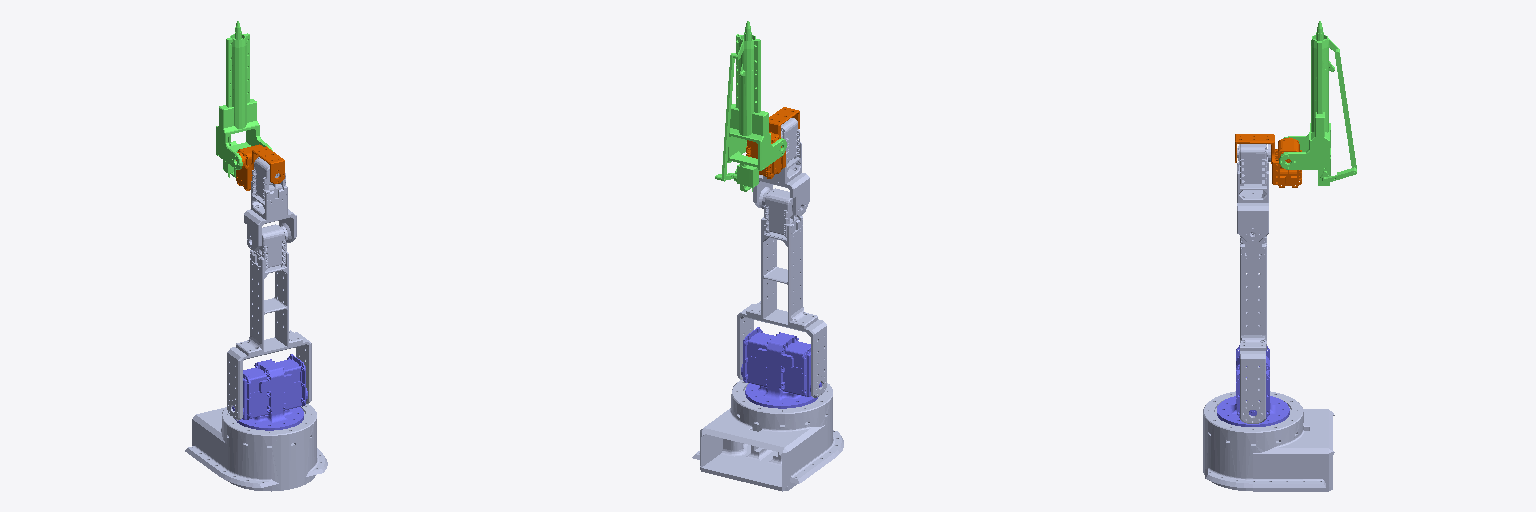
The robot description file, URDF, robot "simple_robot_v1":
<?xml version="1.0" encoding="utf-8"?>
<!-- This URDF was automatically created by SolidWorks to URDF Exporter! Originally created by [author] ([email redacted]) 
     Commit Version: 1.6.0-4-g7f85cfe  Build Version: 1.6.7995.38578
     For more information, please see http://wiki.ros.org/sw_urdf_exporter -->
<robot
  name="simple_robot_v1">
  <link
    name="FixedBase">
    <inertial>
      <origin
        xyz="6.91504582319181E-09 0.00866199894864742 0.0342031308697217"
        rpy="0 0 0" />
      <mass
        value="0.495743106976943" />
      <inertia
        ixx="0.00113436221911029"
        ixy="-1.43617638907444E-10"
        ixz="-8.73991869808274E-11"
        iyy="0.00110788818800462"
        iyz="3.73236938925135E-05"
        izz="0.00165468506904116" />
    </inertial>
    <visual>
      <origin
        xyz="0 0 0"
        rpy="0 0 0" />
      <geometry>
        <mesh
          filename="package://simple_robot_v1/meshes/FixedBase.STL" />
      </geometry>
      <material
        name="">
        <color
          rgba="0.792156862745098 0.819607843137255 0.933333333333333 1" />
      </material>
    </visual>
    <collision>
      <origin
        xyz="0 0 0"
        rpy="0 0 0" />
      <geometry>
        <mesh
          filename="package://simple_robot_v1/meshes/FixedBase.STL" />
      </geometry>
    </collision>
  </link>
  <link
    name="RotatingBaseLink">
    <inertial>
      <origin
        xyz="1.39519863637759E-09 1.06147575283678E-08 0.0504395809392708"
        rpy="0 0 0" />
      <mass
        value="0.249050674935691" />
      <inertia
        ixx="0.000206795273858127"
        ixy="-6.13548289523484E-07"
        ixz="4.03627209215138E-11"
        iyy="0.000301950307154041"
        iyz="-2.72993180638447E-11"
        izz="0.000196032160600871" />
    </inertial>
    <visual>
      <origin
        xyz="0 0 0"
        rpy="0 0 0" />
      <geometry>
        <mesh
          filename="package://simple_robot_v1/meshes/RotatingBaseLink.STL" />
      </geometry>
      <material
        name="">
        <color
          rgba="0.501960784313725 0.501960784313725 1 1" />
      </material>
    </visual>
    <collision>
      <origin
        xyz="0 0 0"
        rpy="0 0 0" />
      <geometry>
        <mesh
          filename="package://simple_robot_v1/meshes/RotatingBaseLink.STL" />
      </geometry>
    </collision>
  </link>
  <joint
    name="RotatingBaseJoint"
    type="revolute">
    <origin
      xyz="0 0 0.0500000000000001"
      rpy="0 0 0" />
    <parent
      link="FixedBase" />
    <child
      link="RotatingBaseLink" />
    <axis
      xyz="0 0 -1" />
    <limit
      lower="0"
      upper="0"
      effort="0"
      velocity="0" />
  </joint>
  <link
    name="ShoulderLink">
    <inertial>
      <origin
        xyz="0.132307785393488 -1.51178238853975E-06 0.000346804396159619"
        rpy="0 0 0" />
      <mass
        value="0.127005030031998" />
      <inertia
        ixx="0.000106668954279911"
        ixy="-1.16821596176043E-08"
        ixz="-3.31487396266421E-06"
        iyy="0.000763082450922113"
        iyz="-8.70603053470386E-09"
        izz="0.000675378390713357" />
    </inertial>
    <visual>
      <origin
        xyz="0 0 0"
        rpy="0 0 0" />
      <geometry>
        <mesh
          filename="package://simple_robot_v1/meshes/ShoulderLink.STL" />
      </geometry>
      <material
        name="">
        <color
          rgba="0.792156862745098 0.819607843137255 0.933333333333333 1" />
      </material>
    </visual>
    <collision>
      <origin
        xyz="0 0 0"
        rpy="0 0 0" />
      <geometry>
        <mesh
          filename="package://simple_robot_v1/meshes/ShoulderLink.STL" />
      </geometry>
    </collision>
  </link>
  <joint
    name="ShoulderJoint"
    type="revolute">
    <origin
      xyz="0 0 0.0490000177849215"
      rpy="3.13514510942963 -1.5707963267949 0" />
    <parent
      link="RotatingBaseLink" />
    <child
      link="ShoulderLink" />
    <axis
      xyz="0 0 1" />
    <limit
      lower="0"
      upper="0"
      effort="0"
      velocity="0" />
  </joint>
  <link
    name="ElbowLink">
    <inertial>
      <origin
        xyz="0.0558340165447233 -0.000366974477921289 -0.000410095262349288"
        rpy="0 0 0" />
      <mass
        value="0.0832060002530787" />
      <inertia
        ixx="2.56416686803113E-05"
        ixy="1.77883242024121E-06"
        ixz="2.08813583713939E-06"
        iyy="9.15870133898707E-05"
        iyz="2.79406974978131E-07"
        izz="8.58747392837518E-05" />
    </inertial>
    <visual>
      <origin
        xyz="0 0 0"
        rpy="0 0 0" />
      <geometry>
        <mesh
          filename="package://simple_robot_v1/meshes/ElbowLink.STL" />
      </geometry>
      <material
        name="">
        <color
          rgba="0.792156862745098 0.819607843137255 0.933333333333333 1" />
      </material>
    </visual>
    <collision>
      <origin
        xyz="0 0 0"
        rpy="0 0 0" />
      <geometry>
        <mesh
          filename="package://simple_robot_v1/meshes/ElbowLink.STL" />
      </geometry>
    </collision>
  </link>
  <joint
    name="ElbowJoint"
    type="revolute">
    <origin
      xyz="0.224699982215072 0 0.00103999573236514"
      rpy="0 0 0" />
    <parent
      link="ShoulderLink" />
    <child
      link="ElbowLink" />
    <axis
      xyz="0 0 1" />
    <limit
      lower="0"
      upper="0"
      effort="0"
      velocity="0" />
  </joint>
  <link
    name="WristLink">
    <inertial>
      <origin
        xyz="-0.0101844467544043 -0.000735404968164891 0.0349414277735269"
        rpy="0 0 0" />
      <mass
        value="0.0537569973721629" />
      <inertia
        ixx="1.89747919928383E-05"
        ixy="3.47727665152842E-08"
        ixz="4.76770738484285E-06"
        iyy="2.58167962543783E-05"
        iyz="2.31424113886313E-07"
        izz="1.78121528975362E-05" />
    </inertial>
    <visual>
      <origin
        xyz="0 0 0"
        rpy="0 0 0" />
      <geometry>
        <mesh
          filename="package://simple_robot_v1/meshes/WristLink.STL" />
      </geometry>
      <material
        name="">
        <color
          rgba="0.909803921568627 0.443137254901961 0.0313725490196078 1" />
      </material>
    </visual>
    <collision>
      <origin
        xyz="0 0 0"
        rpy="0 0 0" />
      <geometry>
        <mesh
          filename="package://simple_robot_v1/meshes/WristLink.STL" />
      </geometry>
    </collision>
  </link>
  <joint
    name="WristJoint"
    type="revolute">
    <origin
      xyz="0.0934999999999996 -0.00107999999999985 -0.00100000000000004"
      rpy="1.5707963267949 0 0" />
    <parent
      link="ElbowLink" />
    <child
      link="WristLink" />
    <axis
      xyz="0 0 -1" />
    <limit
      lower="0"
      upper="0"
      effort="0"
      velocity="0" />
  </joint>
  <link
    name="PenLink">
    <inertial>
      <origin
        xyz="0.0488069330414606 -0.0375128977560554 0.00214563125202002"
        rpy="0 0 0" />
      <mass
        value="0.0813573458074455" />
      <inertia
        ixx="2.82226500412145E-05"
        ixy="3.70404255428573E-06"
        ixz="2.89143815652995E-06"
        iyy="0.000246311640646947"
        iyz="5.64768905060801E-07"
        izz="0.000243271811574027" />
    </inertial>
    <visual>
      <origin
        xyz="0 0 0"
        rpy="0 0 0" />
      <geometry>
        <mesh
          filename="package://simple_robot_v1/meshes/PenLink.STL" />
      </geometry>
      <material
        name="">
        <color
          rgba="0.501960784313725 1 0.501960784313725 1" />
      </material>
    </visual>
    <collision>
      <origin
        xyz="0 0 0"
        rpy="0 0 0" />
      <geometry>
        <mesh
          filename="package://simple_robot_v1/meshes/PenLink.STL" />
      </geometry>
    </collision>
  </link>
  <joint
    name="PenJoint"
    type="continuous">
    <origin
      xyz="0 -0.00100000000000028 0.0409999999999995"
      rpy="-1.5707963267949 0 0" />
    <parent
      link="WristLink" />
    <child
      link="PenLink" />
    <axis
      xyz="0 0 -1" />
  </joint>
  <link
    name="PenTipLink">
    <inertial>
      <origin
        xyz="-1.29363503611514E-08 1.46290260738535E-08 -0.00951562294778097"
        rpy="0 0 0" />
      <mass
        value="0.00038081589701468" />
      <inertia
        ixx="6.06797657346136E-09"
        ixy="2.38790350862128E-14"
        ixz="-1.96377987783302E-14"
        iyy="6.06792667257784E-09"
        iyz="2.22033388921798E-14"
        izz="1.89233276313322E-09" />
    </inertial>
    <visual>
      <origin
        xyz="0 0 0"
        rpy="0 0 0" />
      <geometry>
        <mesh
          filename="package://simple_robot_v1/meshes/PenTipLink.STL" />
      </geometry>
      <material
        name="">
        <color
          rgba="0.501960784313725 1 0.501960784313725 1" />
      </material>
    </visual>
    <collision>
      <origin
        xyz="0 0 0"
        rpy="0 0 0" />
      <geometry>
        <mesh
          filename="package://simple_robot_v1/meshes/PenTipLink.STL" />
      </geometry>
    </collision>
  </link>
  <joint
    name="PenTipJoint"
    type="continuous">
    <origin
      xyz="0.174034907432749 -0.037499999995722 0.000980000006022251"
      rpy="-1.57079632679492 1.56434878263475 -1.57079632679492" />
    <parent
      link="PenLink" />
    <child
      link="PenTipLink" />
    <axis
      xyz="-0.452442845748437 0.630713380195033 -0.630472920412932" />
  </joint>
</robot>

--- Facts derived from the render (not from the file) ---
The picture shows the robot from 3 angles, left to right: view 1: azimuth 30°, elevation 25°; view 2: azimuth 150°, elevation 25°; view 3: azimuth 270°, elevation 25°; orthographic projection.
Robot: simple_robot_v1 — 7 links, 6 joints (4 revolute, 2 continuous); root link FixedBase; default pose: every joint at zero.
Visible links, largest first — view 1: FixedBase, ShoulderLink, RotatingBaseLink, PenLink, ElbowLink, WristLink; view 2: FixedBase, ShoulderLink, PenLink, RotatingBaseLink, ElbowLink, WristLink; view 3: FixedBase, ShoulderLink, PenLink, ElbowLink, RotatingBaseLink, WristLink.
Boxes of the visible links, <box> form: FixedBase: <box>185,404,327,491</box>; ShoulderLink: <box>227,224,311,420</box>; RotatingBaseLink: <box>232,354,307,430</box>; PenLink: <box>216,31,272,177</box>; ElbowLink: <box>244,157,296,250</box>; WristLink: <box>236,144,284,190</box>; FixedBase: <box>692,380,843,491</box>; ShoulderLink: <box>737,188,826,397</box>; PenLink: <box>715,32,786,191</box>; RotatingBaseLink: <box>741,327,821,408</box>; ElbowLink: <box>753,118,809,216</box>; WristLink: <box>746,107,799,178</box>; FixedBase: <box>1203,391,1334,491</box>; ShoulderLink: <box>1240,231,1266,423</box>; PenLink: <box>1279,32,1356,185</box>; ElbowLink: <box>1237,144,1270,241</box>; RotatingBaseLink: <box>1217,345,1289,426</box>; WristLink: <box>1235,134,1301,187</box>.
Bounding box of the posed robot: 0.146 × 0.1836 × 0.5912 m (x, y, z).
7 mesh visuals loaded from 7 distinct referenced files (7 binary STL).